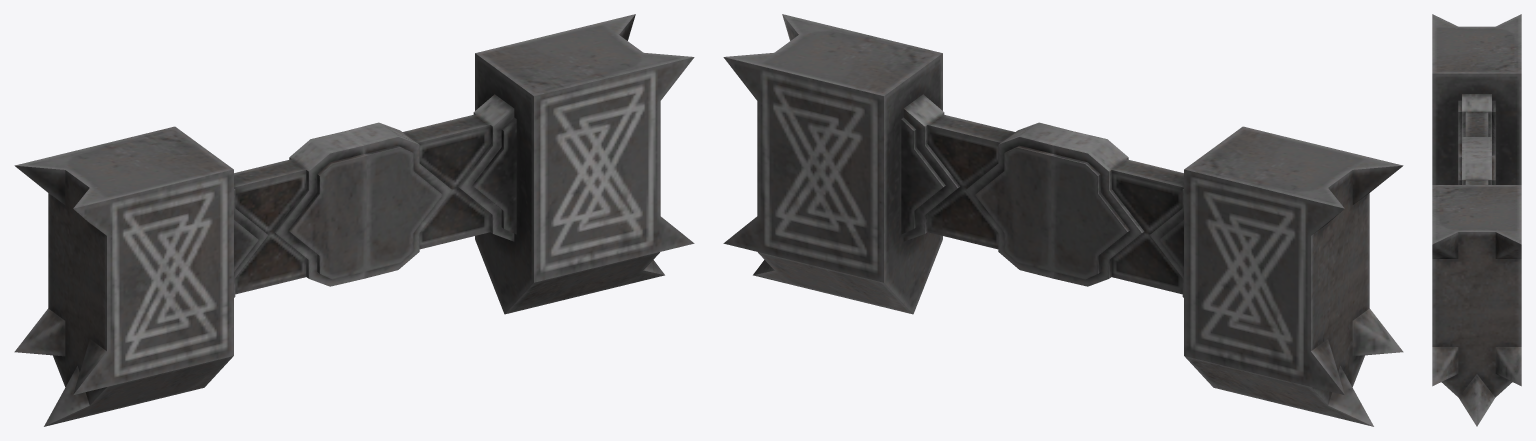
The model's file is sm_dwarf_erebor_hammer_blade_2h_a.fbx.
The picture shows the model from 3 angles, left to right: view 1: azimuth 30°, elevation 25°; view 2: azimuth 150°, elevation 25°; view 3: azimuth 270°, elevation 25°; orthographic projection. The views are drawn at different scales.
Visible parts, largest first — view 1: sm_dwarf_erebor_hammer_blade_2h_a; view 2: sm_dwarf_erebor_hammer_blade_2h_a; view 3: sm_dwarf_erebor_hammer_blade_2h_a.
Boxes of the visible parts, <box> form: sm_dwarf_erebor_hammer_blade_2h_a: <box>14,14,694,426</box>; sm_dwarf_erebor_hammer_blade_2h_a: <box>723,14,1403,426</box>; sm_dwarf_erebor_hammer_blade_2h_a: <box>1432,14,1521,426</box>.
Size of the model in its own units: 0.5127 by 0.084 by 0.189.
1 material, 1 textured.
